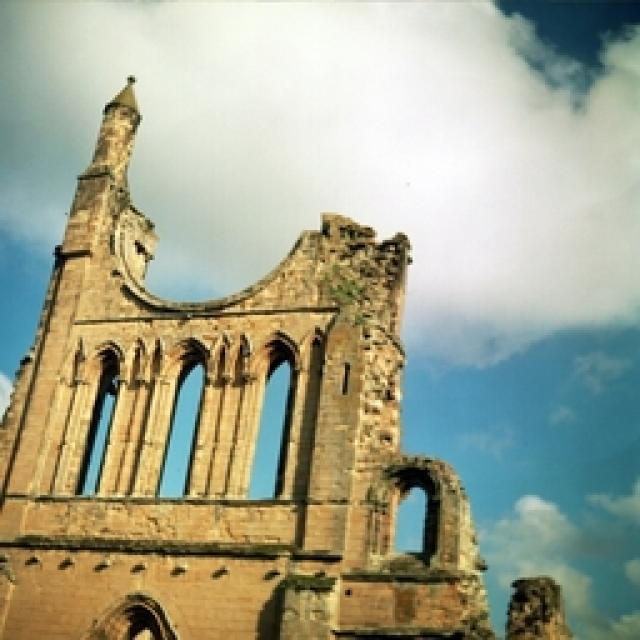Abbey: (58, 58, 540, 640)
